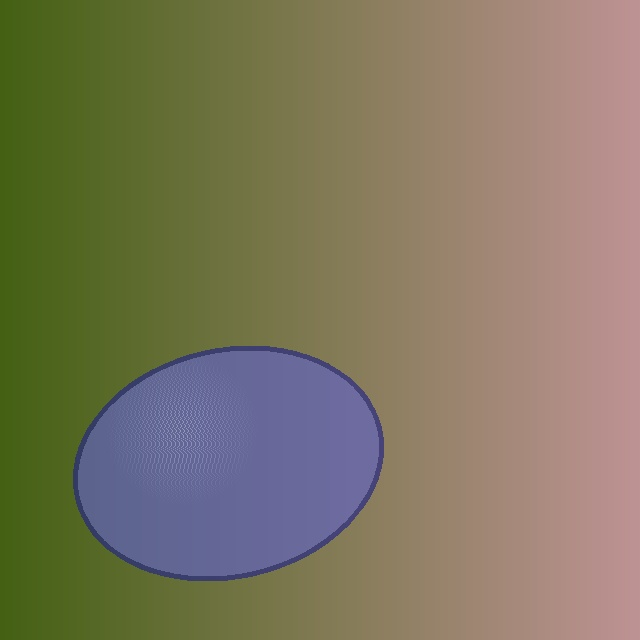lens: (76, 348, 380, 578)
